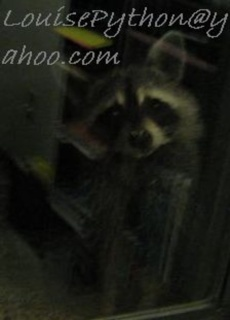Raccoon: (68, 26, 210, 293)
